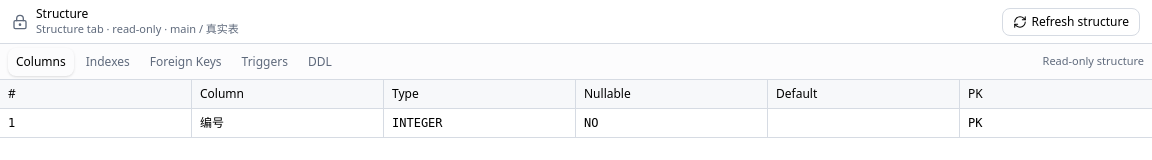
Scenario: renders columns and indexes when JDBC DDL is unsupported, with a usable SQL entry
Later steps or results of the test are not shown.
Click the button "Indexes" at (108, 62), box [78,48,138,76]
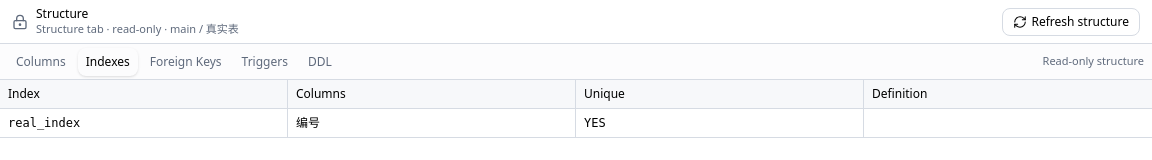
Check: the text "real_index" is shown, box [0,109,288,137]
Click the button "DDL" at (320, 62), box [300,48,340,76]
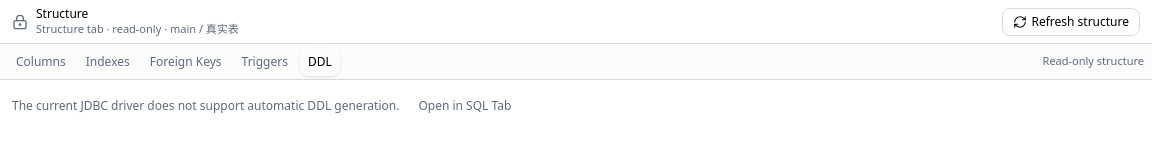
Check: the text "The current JDBC driver does not support automatic DDL generation." is shown, box [12,97,399,114]
